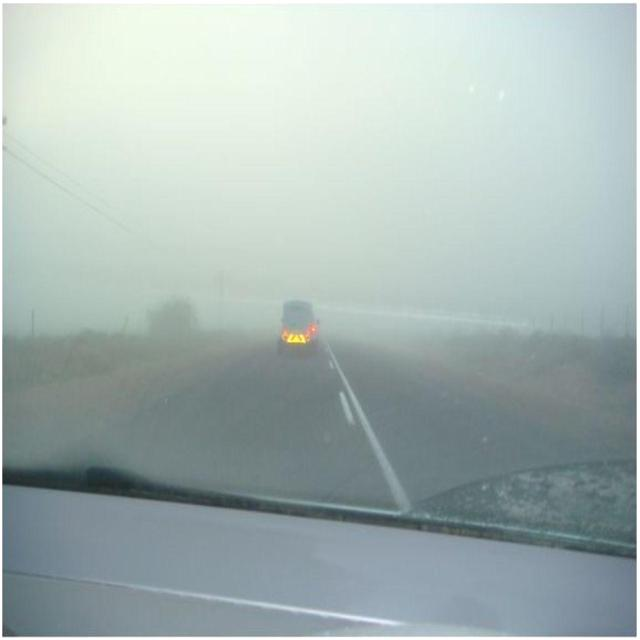Van: (278, 298, 322, 356)
